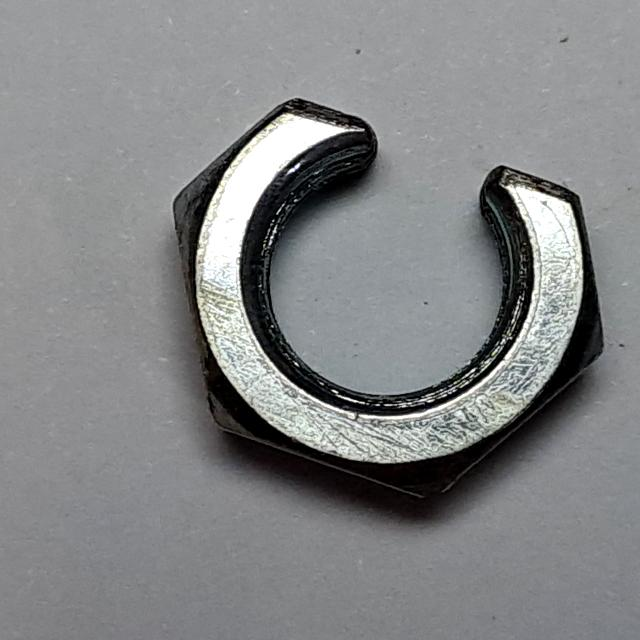Fracture: (158, 85, 619, 519)
